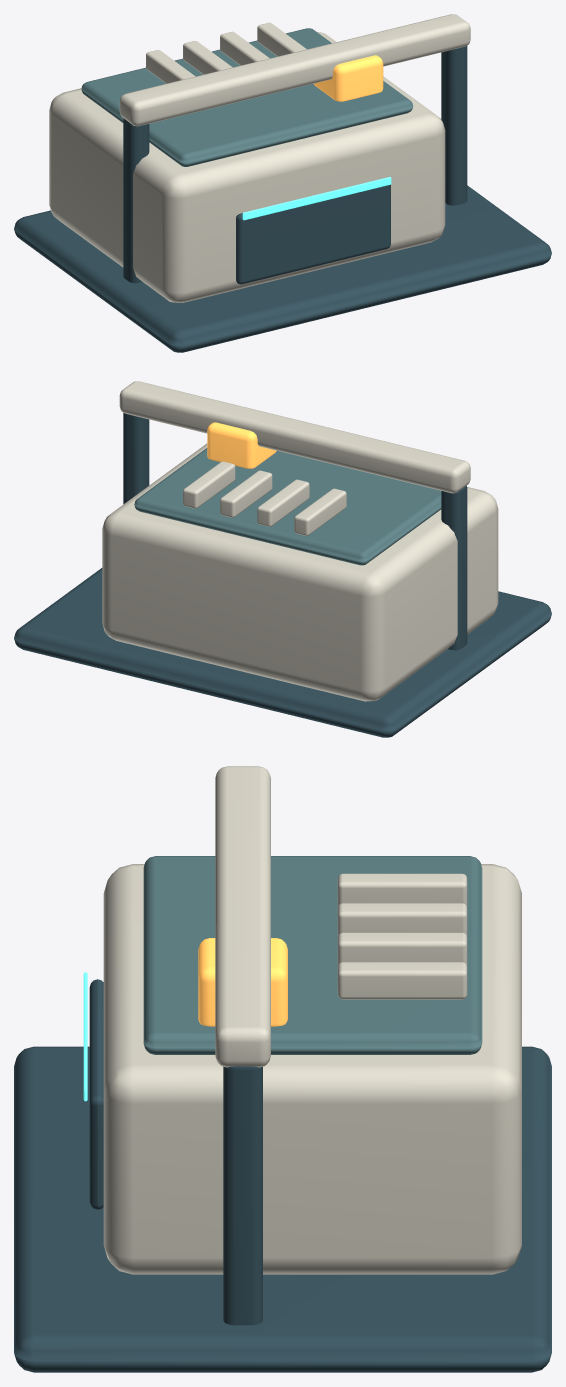
Rendered from equipment.glb.
3 views of the same model, one above another, from view 1: azimuth 30°, elevation 25°; view 2: azimuth 150°, elevation 25°; view 3: azimuth 270°, elevation 25° (orthographic). The views are drawn at different scales.
Parts seen in each view (by area): view 1: Architecture, Hardware; view 2: Architecture, Hardware; view 3: Architecture, Hardware.
Part boxes in pixels (x1,y1,x2,y2): Architecture: (14, 14, 551, 352); Hardware: (314, 55, 383, 101); Architecture: (14, 381, 551, 737); Hardware: (207, 422, 276, 468); Architecture: (14, 766, 551, 1372); Hardware: (198, 938, 287, 1026).
Bounding box in the file's own units: 3.6 × 1.83 × 2.7.
